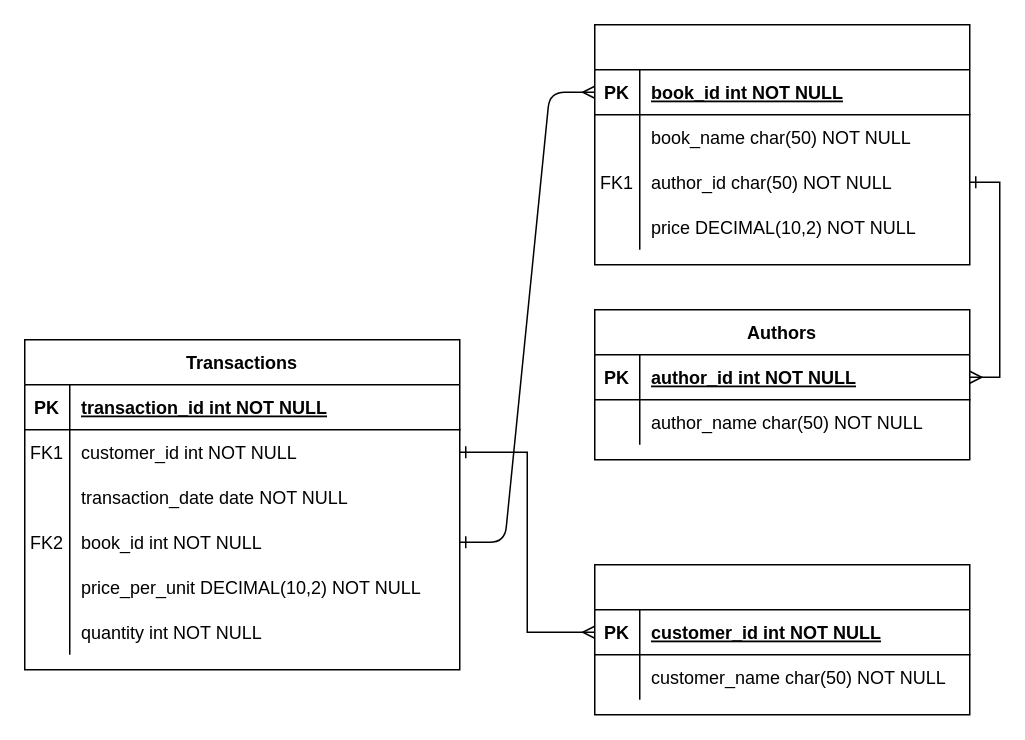
Some shapes in this 1025 by 740 pixel diagram are drawn without their labels. The box of each missing label's shape, as (x1, y1, x2, y2) in pixels:
Books: (593, 23, 970, 265)
Customers: (593, 563, 970, 715)
